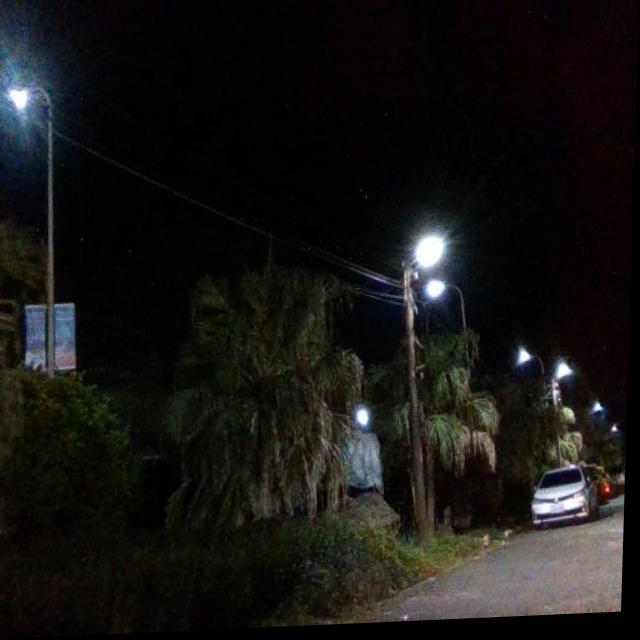pollute: (332, 423, 390, 501)
